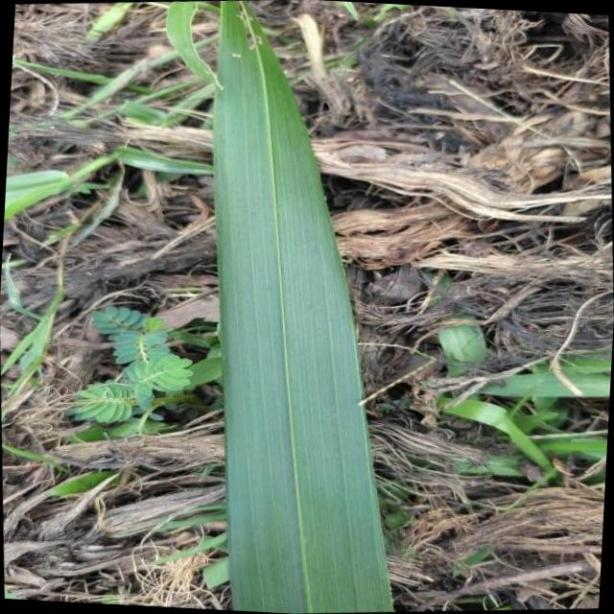Boron: (211, 5, 395, 614)
